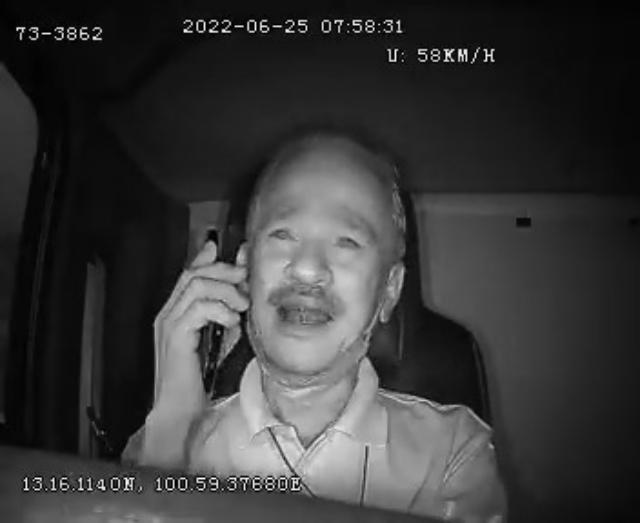PhoneUse: (193, 225, 233, 401)
SafeDriving: (326, 218, 370, 260), (260, 211, 304, 252)
